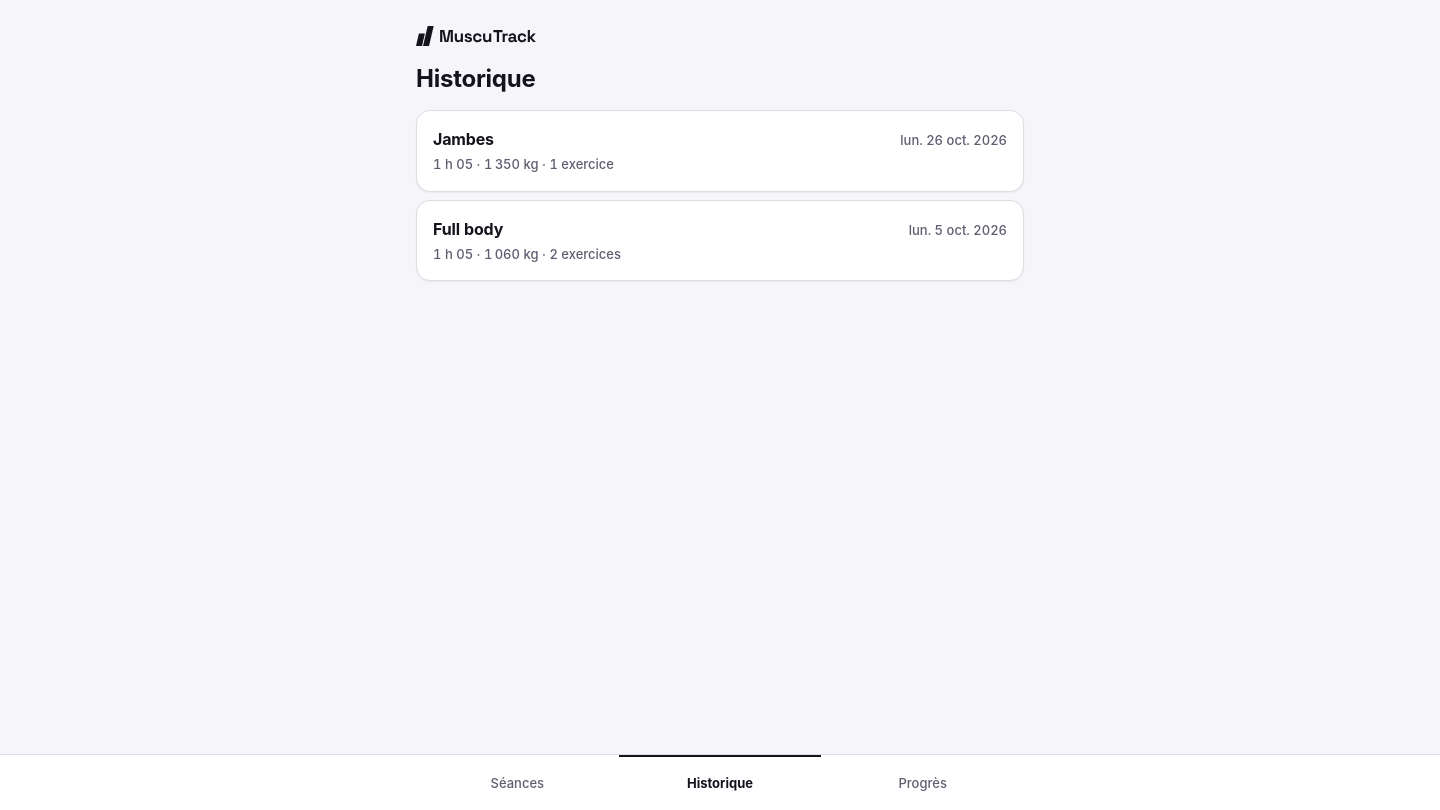
Test: historique › détail d’une séance puis suppression immédiate, annulable par le toast
The width and height of the screenshot is (1440, 810).
What coordinates should you click on to do the following:
click the link "Jambes lun. 26 oct. 2026 1 h 05 · 1 350 kg · 1 exercice"
I would click on:
 (463, 139)
Its box is left=416, top=110, right=1024, bottom=192.
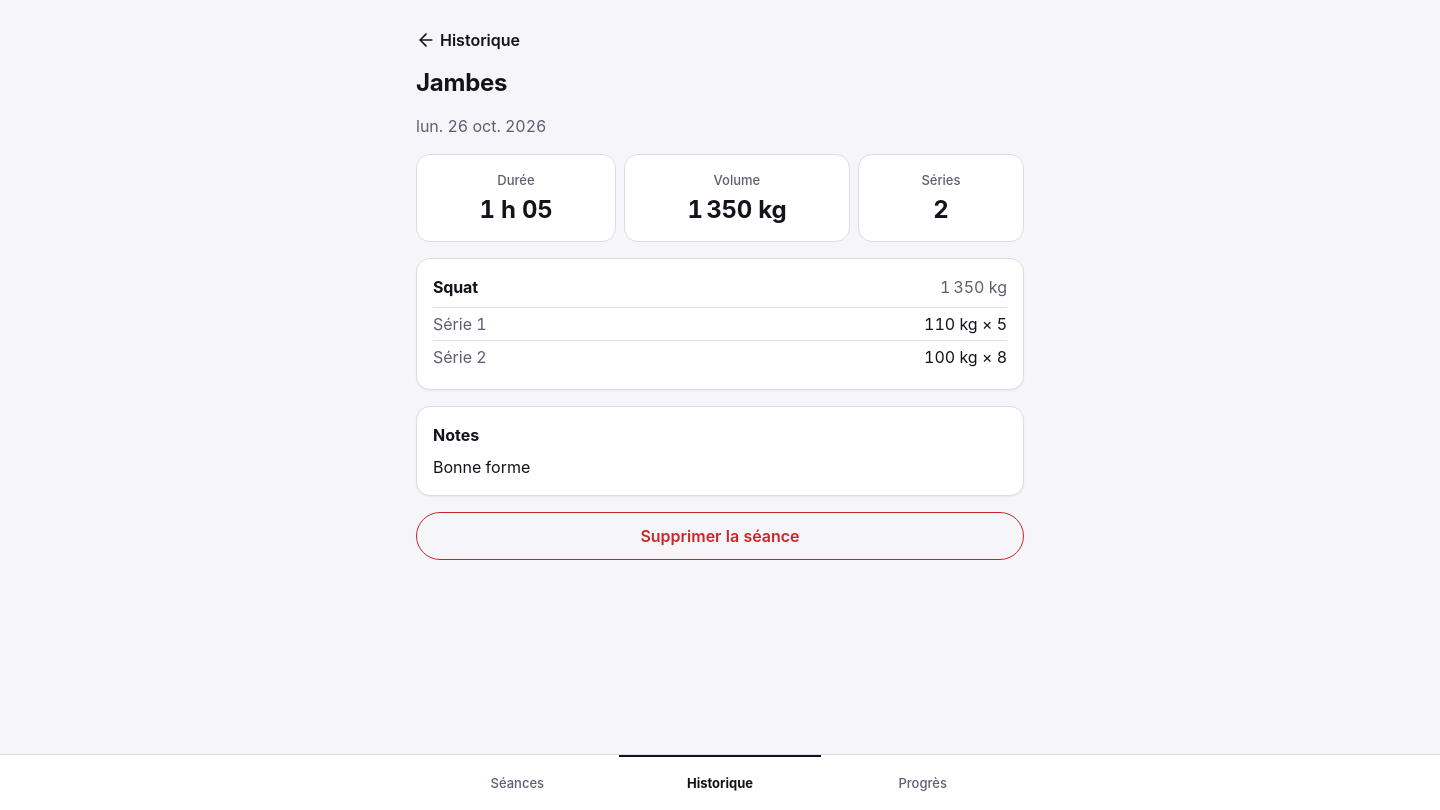
Check: the heading "Jambes" is shown, box left=416, top=68, right=507, bottom=97
Check: the text "Bonne forme" is shown, box left=433, top=456, right=530, bottom=476
What coordinates should you click on to do the following:
click the button "Supprimer la séance"
I would click on:
 (720, 536)
Its box is left=416, top=512, right=1024, bottom=560.
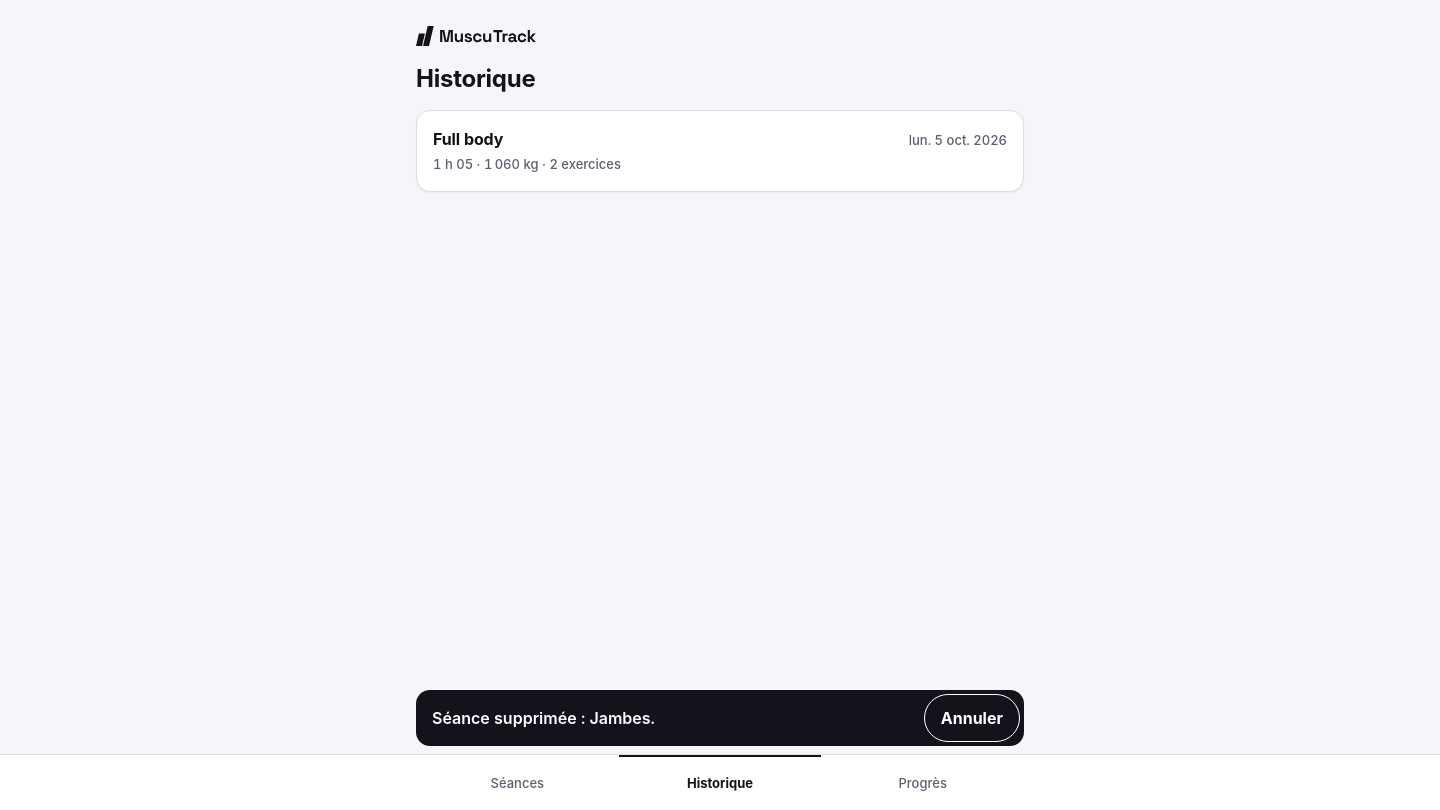
Check: the heading "Historique" is shown, box left=416, top=64, right=536, bottom=93
Check: the message with class "toast-region" shows "Séance supprimée : Jambes.", box left=432, top=708, right=655, bottom=728
Check: the button with aria-label "Annuler la suppression" reads "Annuler"
What coordinates should you click on to do the following:
click the button with aria-label "Annuler la suppression"
I would click on:
 (972, 718)
Its box is left=924, top=694, right=1020, bottom=742.
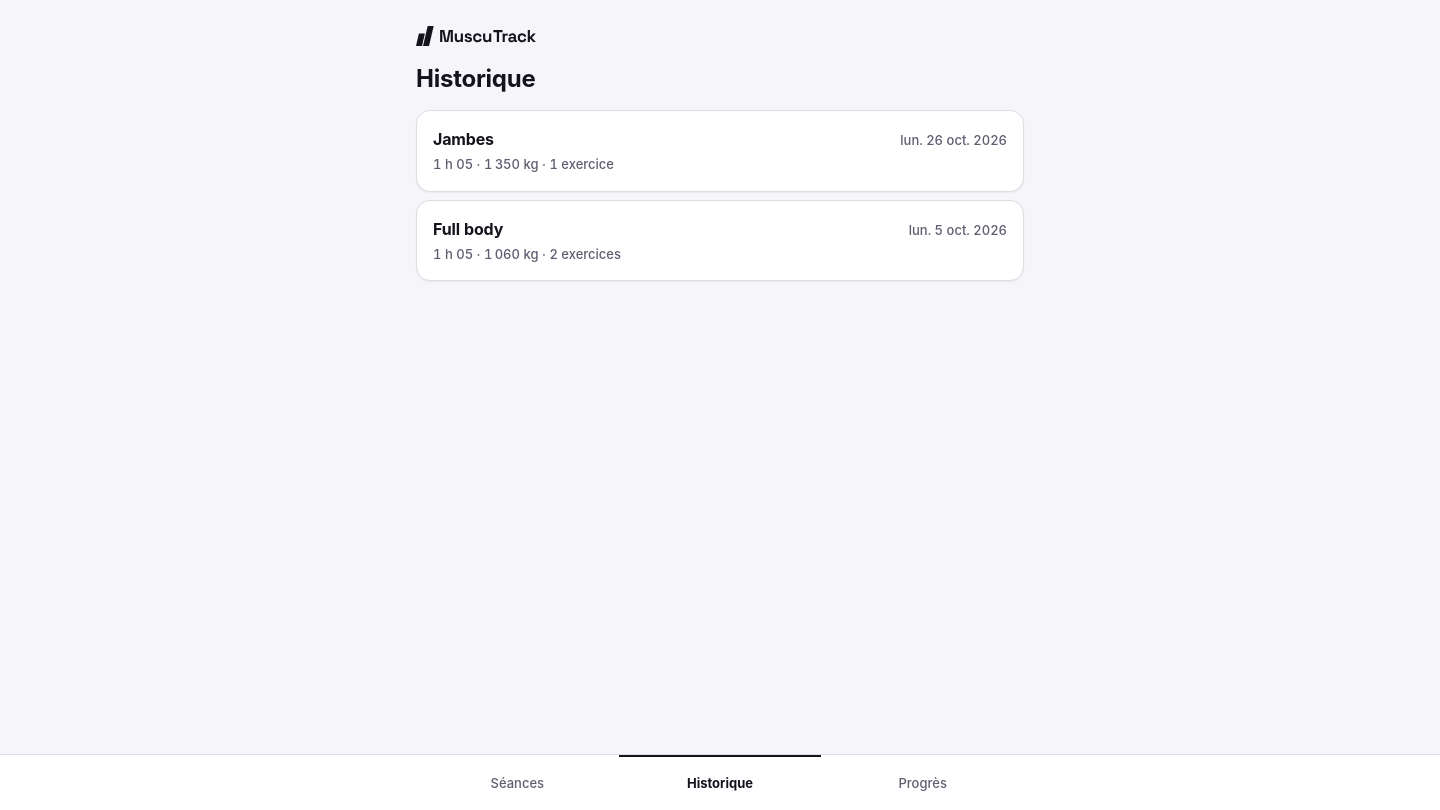
Check: the link "Jambes lun. 26 oct. 2026 1 h 05 · 1 350 kg · 1 exercice" is shown, box left=416, top=110, right=1024, bottom=192
